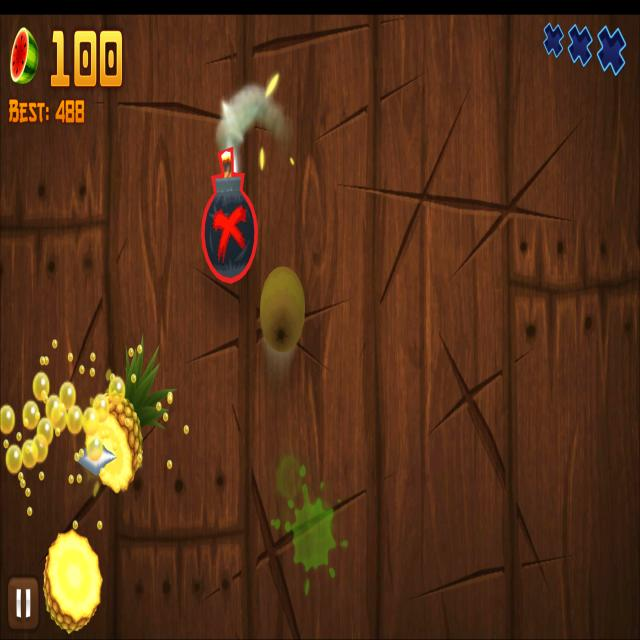bomb: (200, 147, 260, 284)
fruit: (258, 266, 306, 353)
